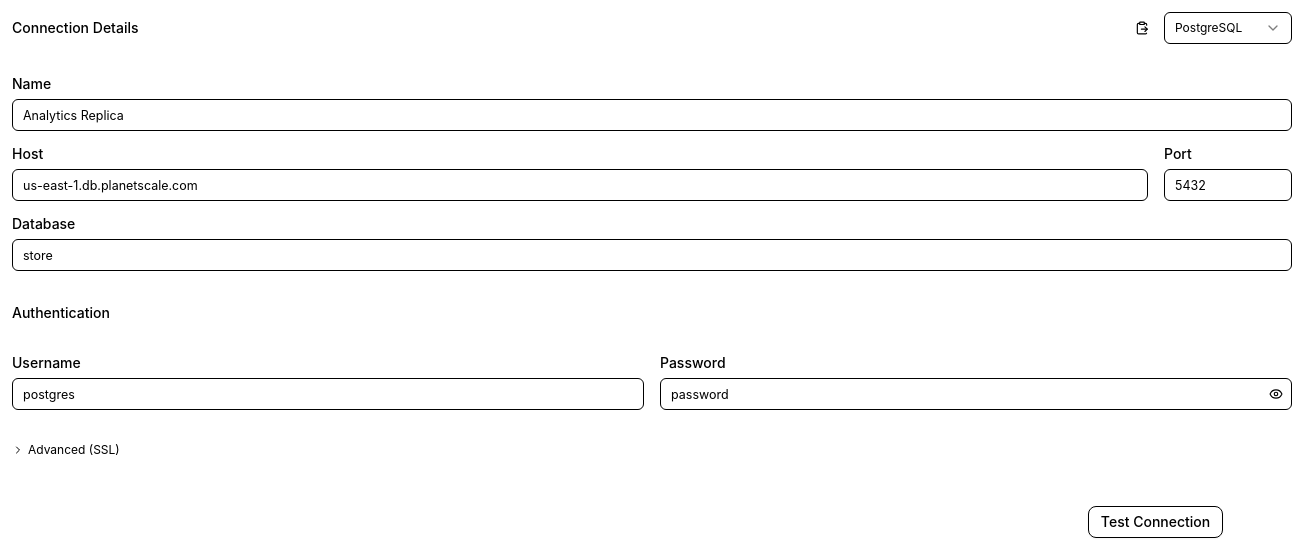
Test: DatabaseForm › password reveal › shows and hides the typed password
In the password field labelled "Password": (976, 394) [660,378,1292,410], type "hunter2"
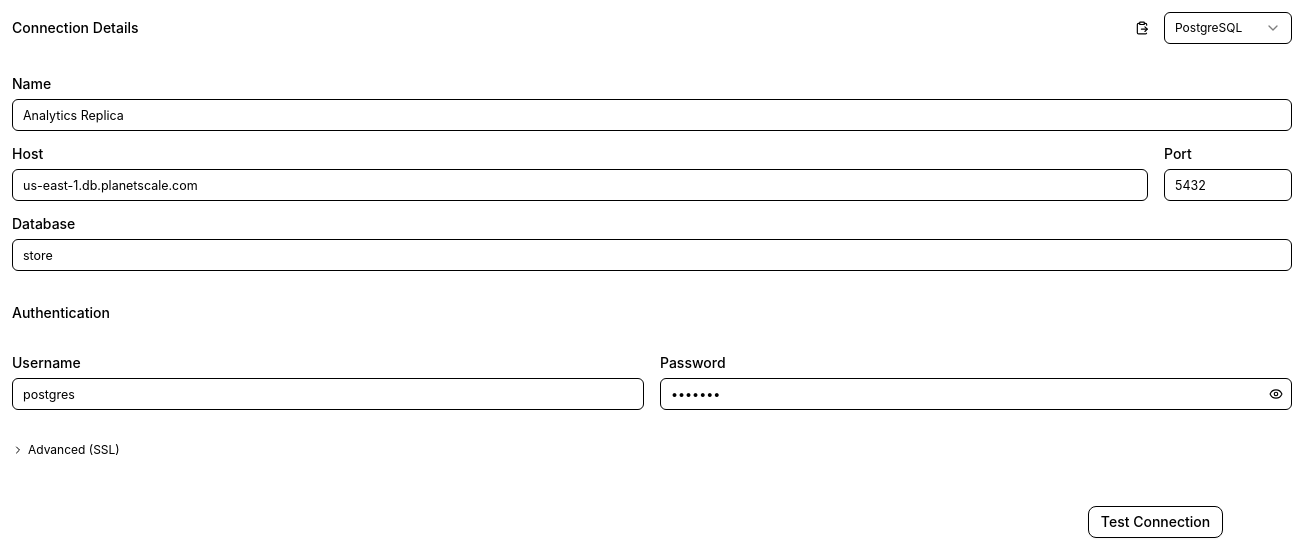
Click the button named "Show password": (1276, 394) [1265,383,1287,405]
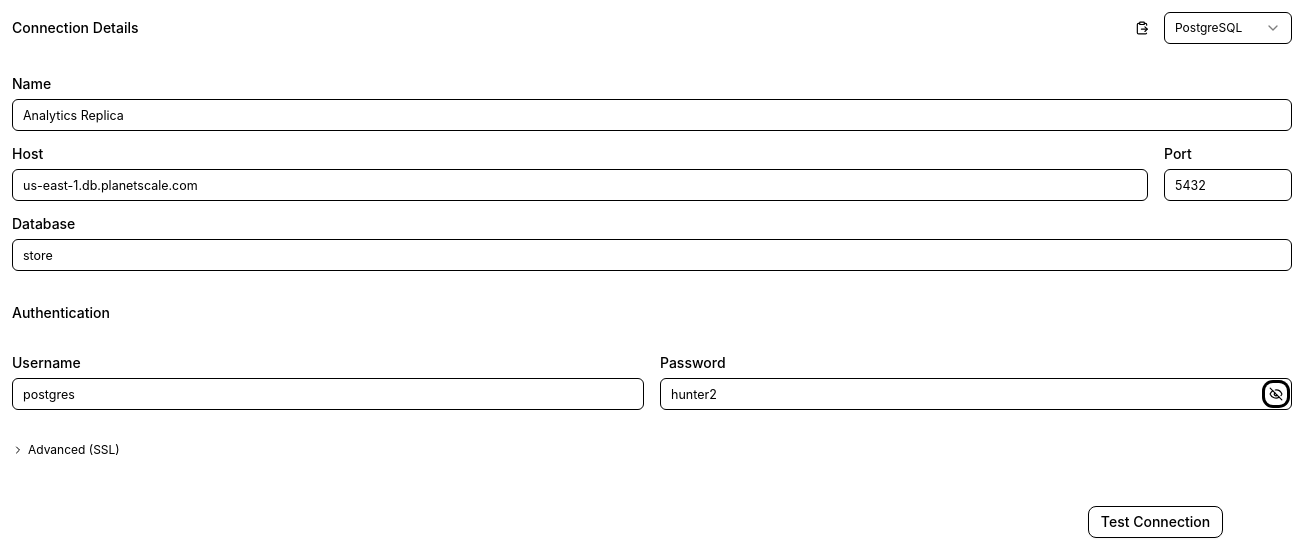
Check: the field labelled "Password" shows its text, box [660,378,1292,410]
Click the button named "Hide password": (1276, 394) [1265,383,1287,405]
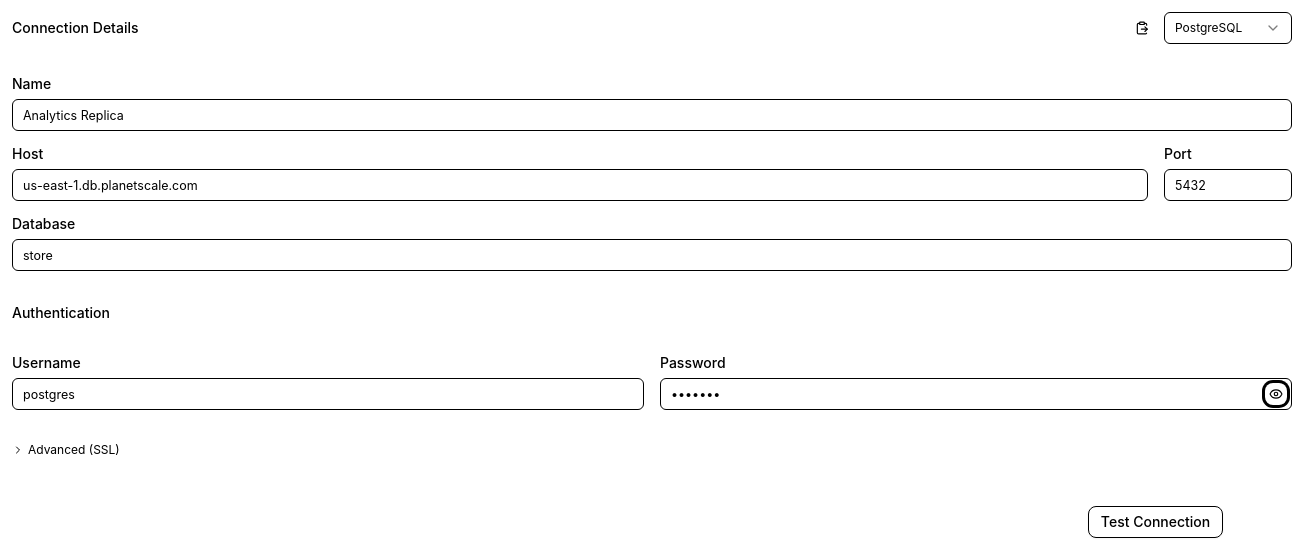
Check: the password field labelled "Password" hides its text, box [660,378,1292,410]
